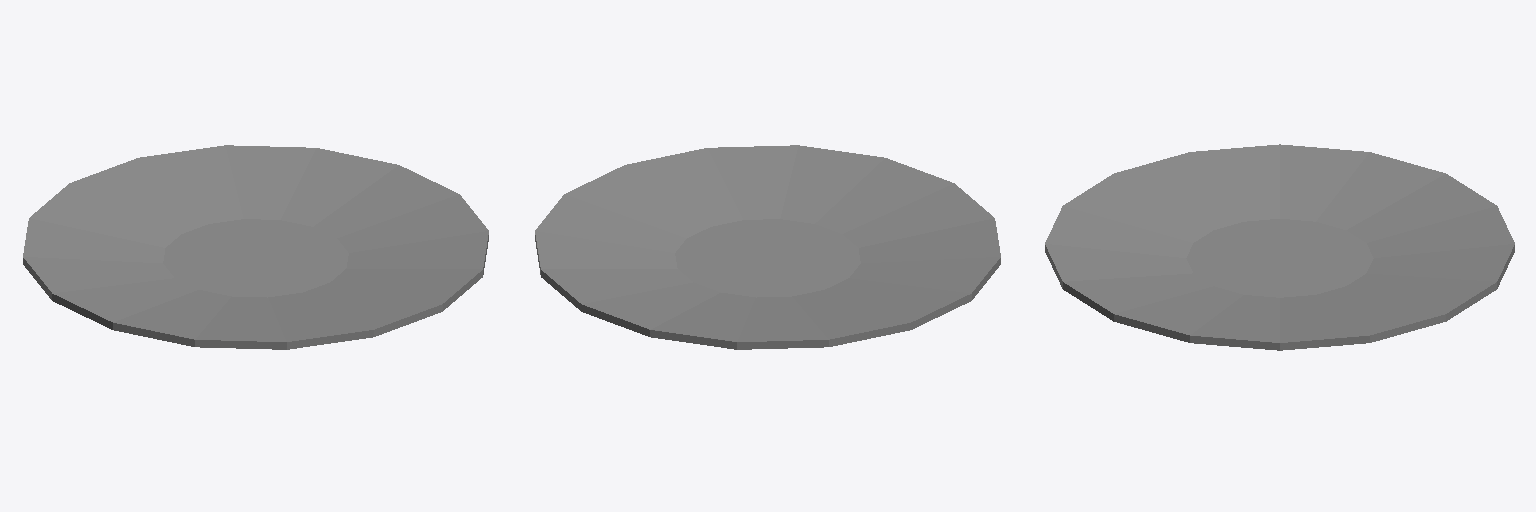
The model's file is CookPlate.obj.
The picture shows the model from 3 angles: view 1: azimuth 30°, elevation 25°; view 2: azimuth 150°, elevation 25°; view 3: azimuth 270°, elevation 25°; orthographic projection.
Visible parts, largest first — view 1: Cookery_Plate; view 2: Cookery_Plate; view 3: Cookery_Plate.
Boxes of the visible parts, x1,y1,x2,y2 form: Cookery_Plate: [23, 145, 488, 349]; Cookery_Plate: [535, 145, 1000, 349]; Cookery_Plate: [1045, 144, 1514, 350].
Bounding box in the file's own units: 32.74 × 1.88 × 32.74.